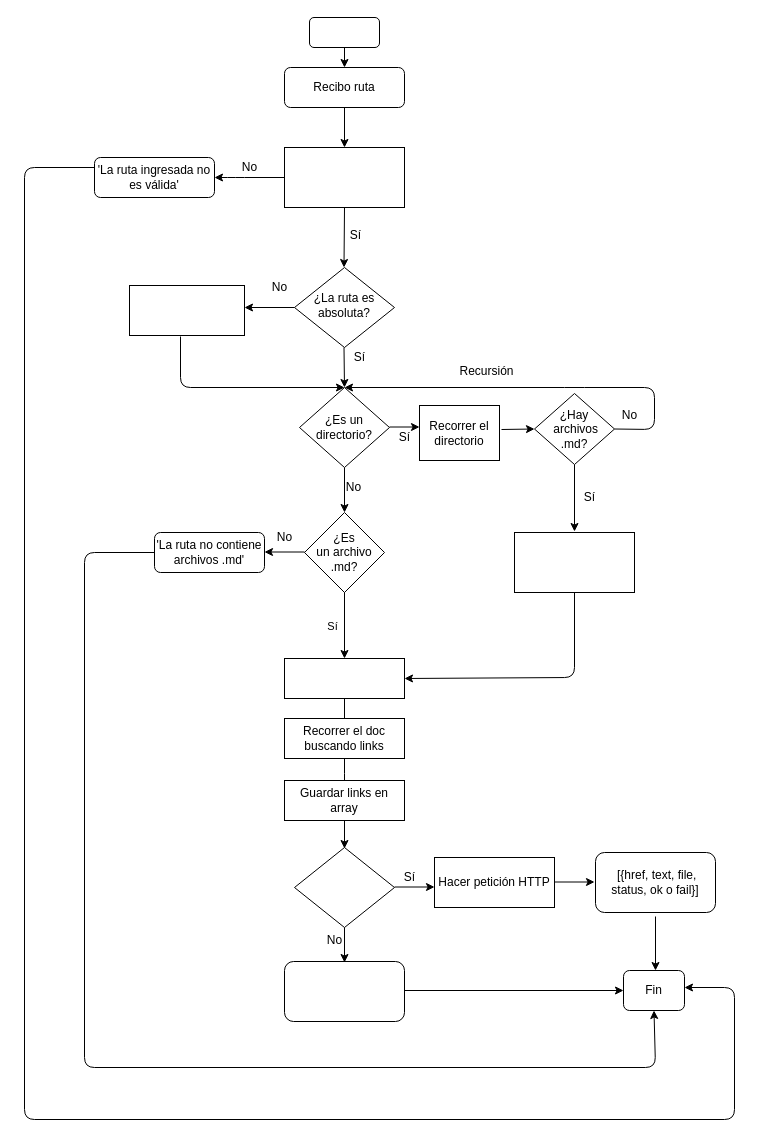
Image size: 760x1145. Some labels were removed from this diagram. Each missing label, with the centre of its shape:
"[{href, text, file}]" belongs at pixel 344 991.
"Convertir a ruta absoluta" belongs at pixel 186 310.
"Extraer informacón del documento" belongs at pixel 344 678.
"Guardar los archivos .md en array" belongs at pixel 574 562.
"Inicio" belongs at pixel 344 32.
"Verificar si la ruta es válida" belongs at pixel 344 177.
"¿Contiene Validate:true?" belongs at pixel 344 887.
